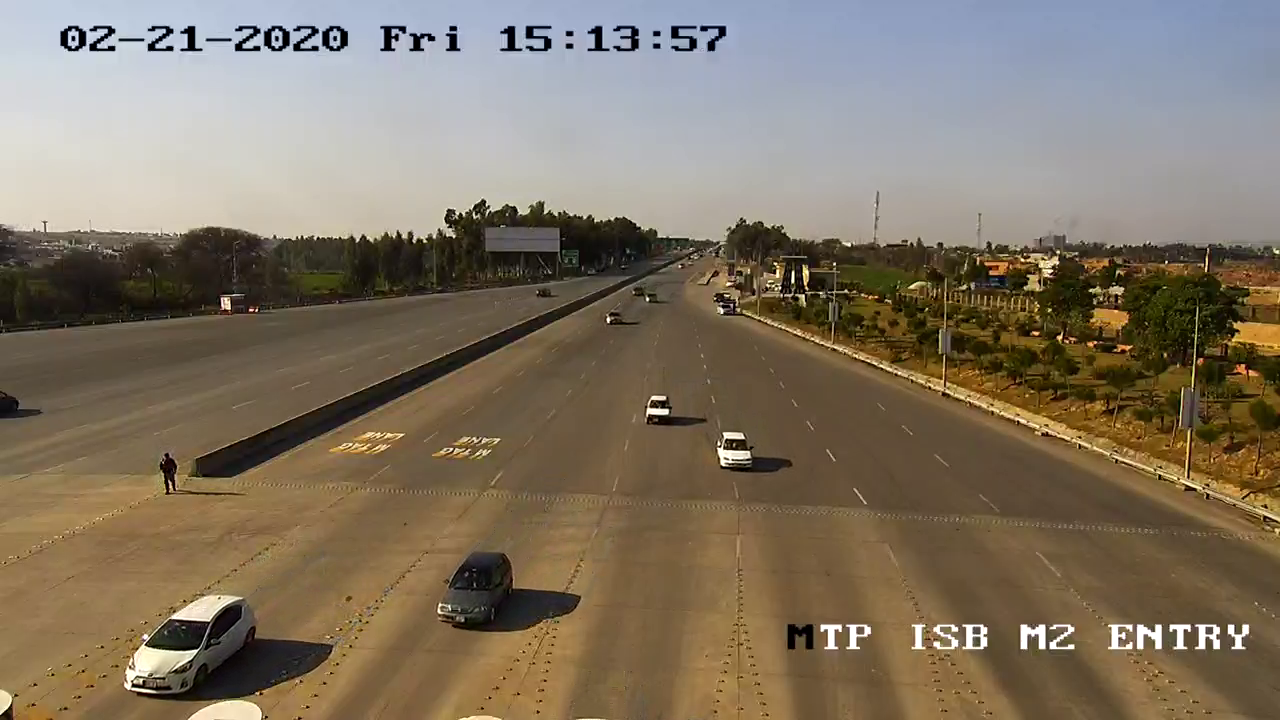f1: (111, 580, 264, 704), (424, 543, 530, 634), (707, 425, 764, 475), (640, 388, 678, 434)
